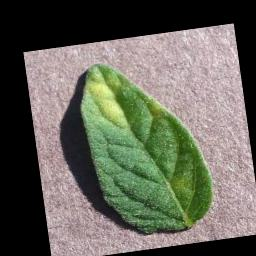Leaf_Mold: (77, 60, 141, 136)
